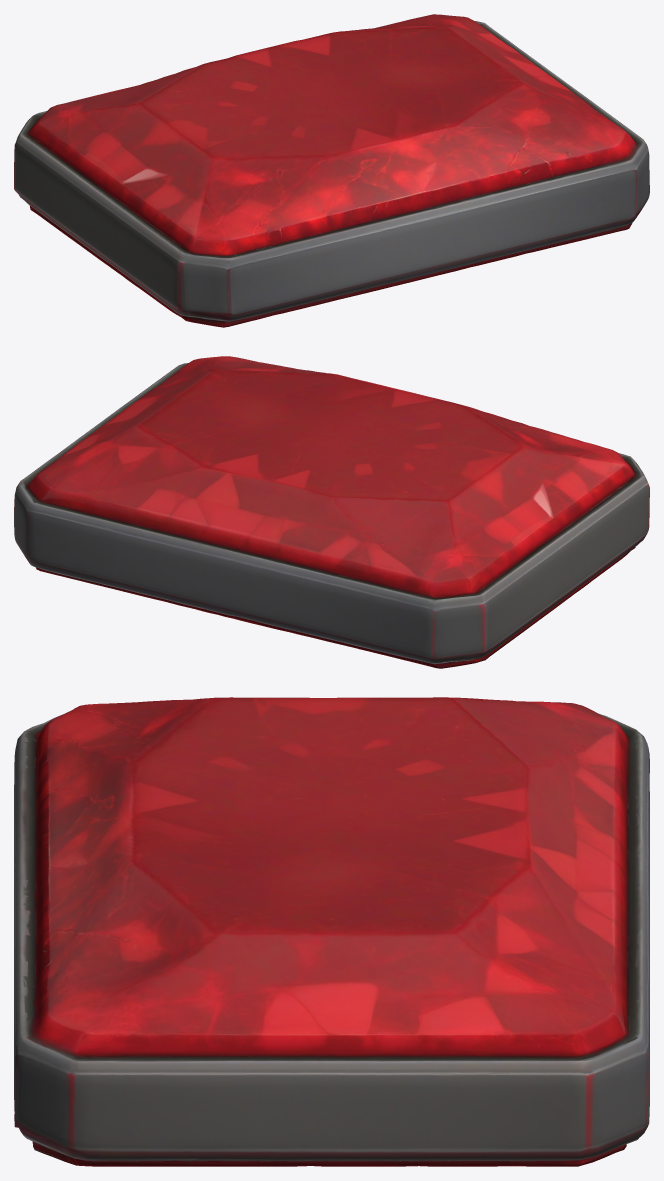
File: rectangular_UI_button_0702151238_texture.glb
3 renders of one model, top to bottom at view 1: azimuth 30°, elevation 25°; view 2: azimuth 150°, elevation 25°; view 3: azimuth 270°, elevation 25°, orthographic. The views are drawn at different scales.
Size of the model in its own units: 2 by 0.4734 by 1.49.
Materials: 1 (1 with a texture image).
